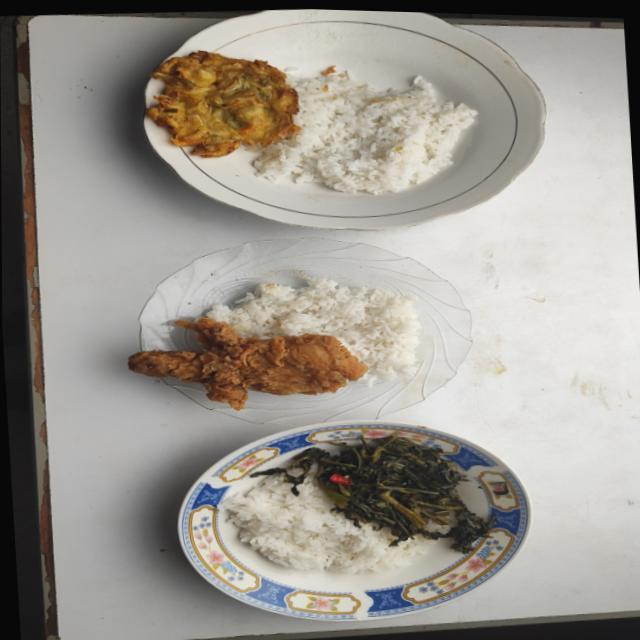nasi_putih: (253, 67, 477, 195), (206, 278, 422, 384), (225, 466, 432, 574)
tumis_kangkung: (269, 431, 486, 553)
